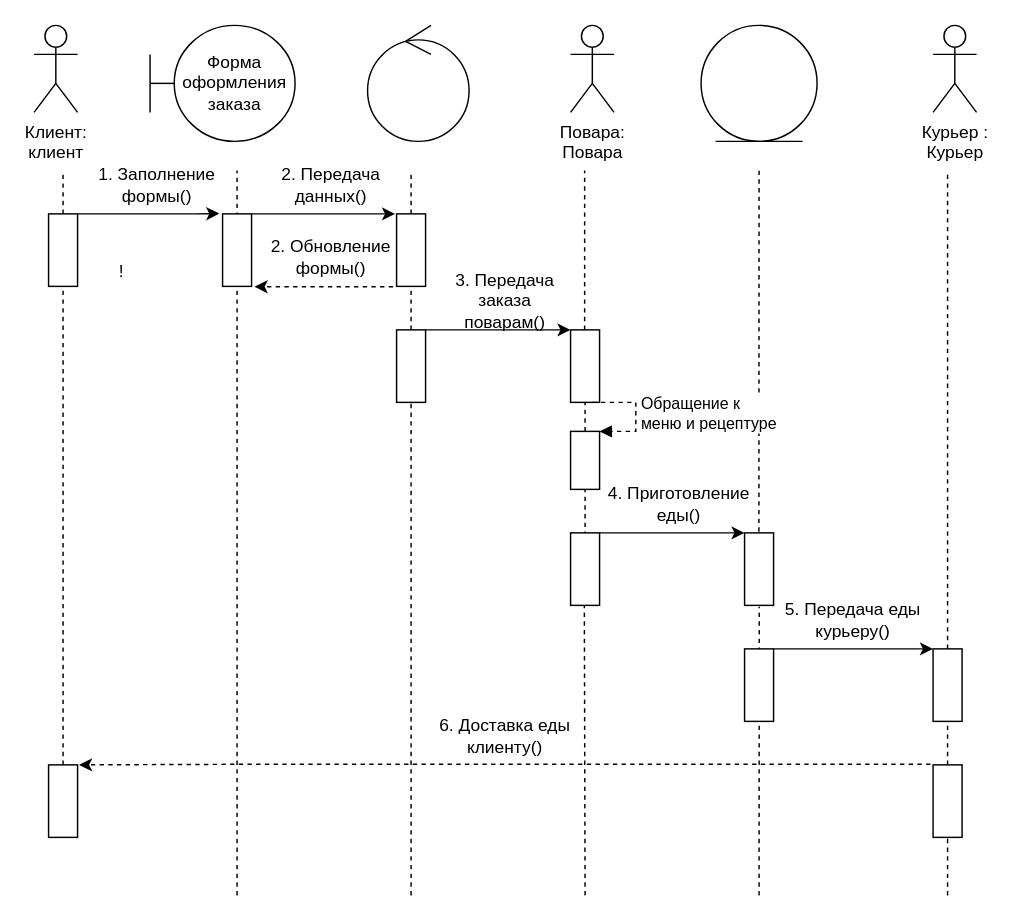
Some shapes in this 1014 by 922 pixel diagram are drawn without their labels. Each missing label, with the centre of its shape:
"Готовая еда : Готовая еда" goes at pixel 758 82.
"Приложение: Приложение" goes at pixel 417 82.
